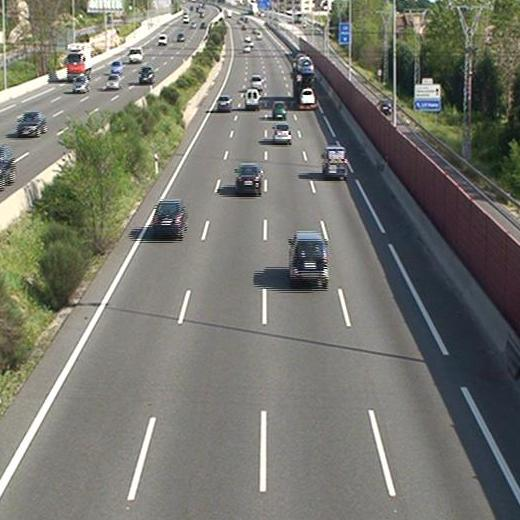car: (290, 232, 326, 280), (152, 202, 185, 232), (234, 166, 261, 190), (274, 124, 290, 141), (271, 102, 285, 119), (218, 95, 230, 111), (300, 90, 313, 103), (300, 61, 313, 73), (249, 75, 261, 87)
truck: (292, 59, 316, 108)
van: (323, 147, 345, 177), (244, 91, 259, 108)
